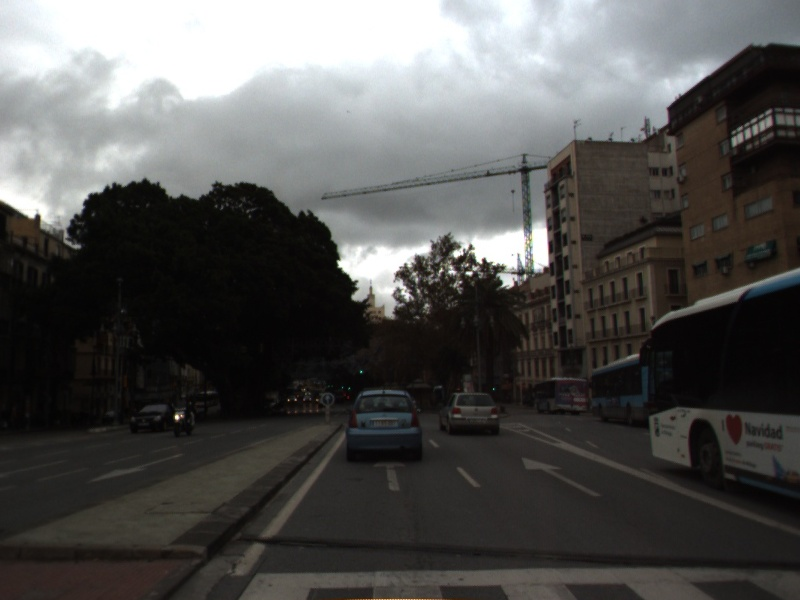STRAIGHT: (519, 455, 604, 499), (371, 458, 409, 493)
